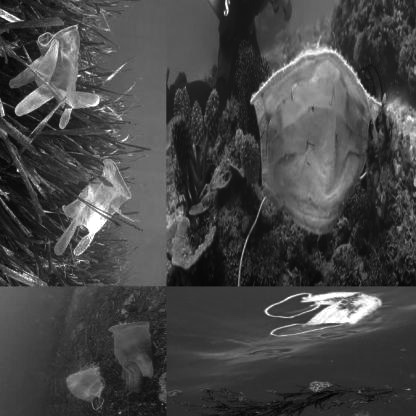Mask: (248, 44, 384, 243), (262, 290, 389, 339), (62, 361, 110, 412)
glove: (10, 24, 106, 138), (58, 156, 131, 265), (110, 322, 154, 391)
